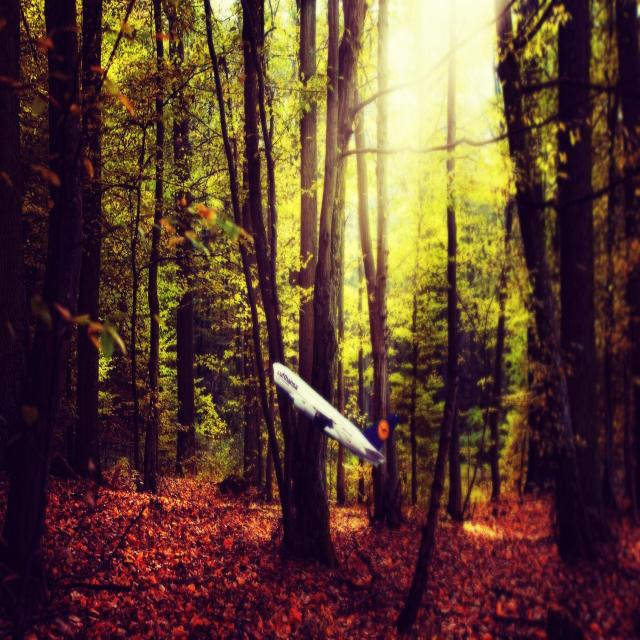airplane: (272, 360, 399, 466)
